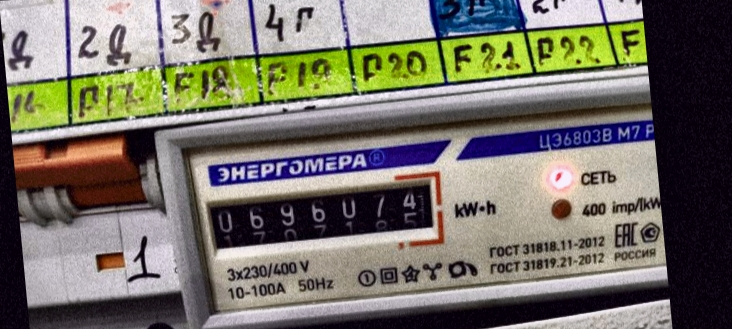0: (213, 207, 234, 234), (339, 193, 357, 220)
4: (400, 186, 418, 212)
5: (402, 210, 419, 229)
6: (246, 202, 267, 231), (307, 198, 327, 223)
7: (368, 191, 388, 218)
9: (276, 201, 297, 227)
screen: (193, 165, 451, 270)
